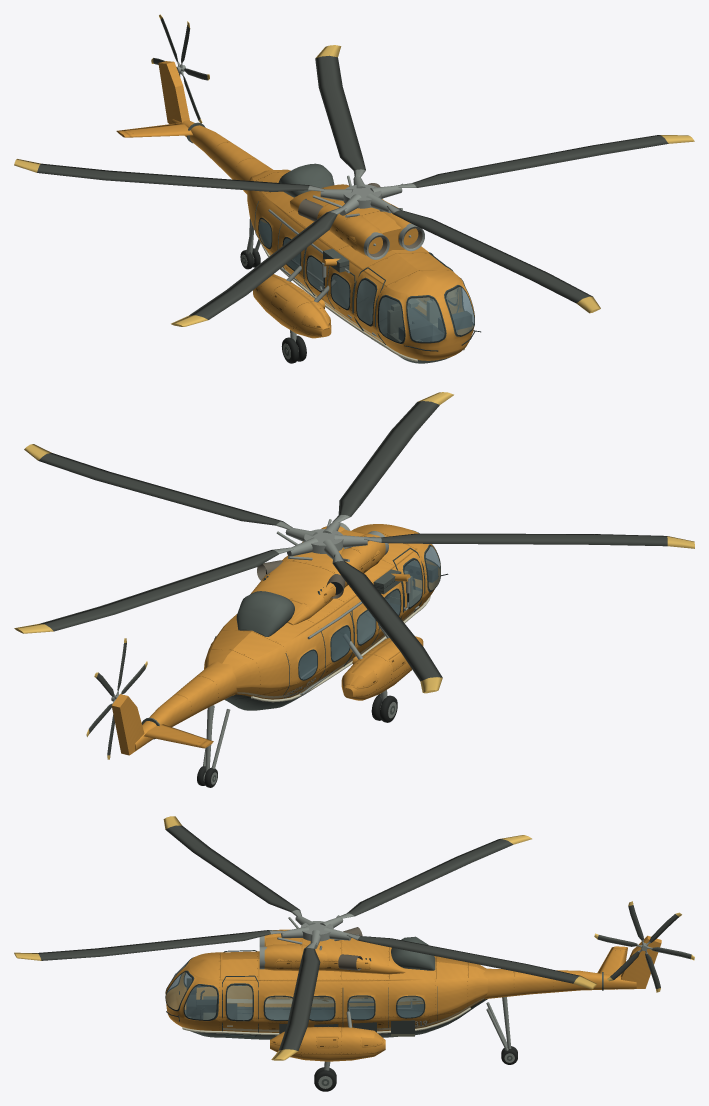
File: HAEMOR.glb
The picture shows the model from 3 angles, top to bottom: view 1: azimuth 30°, elevation 25°; view 2: azimuth 150°, elevation 25°; view 3: azimuth 270°, elevation 25°; orthographic projection. The views are drawn at different scales.
Parts seen in each view (by area): view 1: Airframe, MainRotor, TailRotor; view 2: Airframe, MainRotor, TailRotor; view 3: Airframe, MainRotor, TailRotor.
Boxes of the visible parts, x1,y1,x2,y2 form: Airframe: [116, 61, 480, 363]; MainRotor: [14, 45, 694, 326]; TailRotor: [151, 14, 209, 123]; Airframe: [111, 522, 448, 787]; MainRotor: [14, 392, 694, 693]; TailRotor: [86, 638, 147, 759]; Airframe: [165, 927, 661, 1091]; MainRotor: [14, 816, 596, 1060]; TailRotor: [594, 901, 694, 992].
Bounding box in the file's own units: 17.81 × 5.62 × 20.99.
17 materials, 4 textured.
